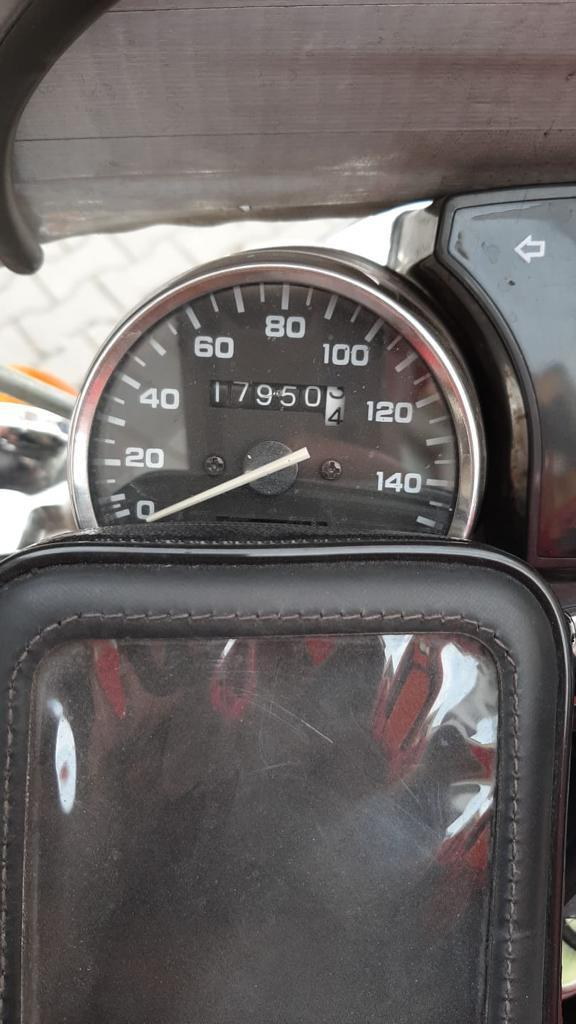0: (303, 385, 322, 408)
1: (212, 380, 223, 405)
3: (327, 385, 345, 399)
4: (326, 405, 344, 425)
5: (279, 384, 297, 407)
7: (231, 380, 249, 402)
9: (255, 383, 273, 406)
odometer: (202, 375, 347, 430)
